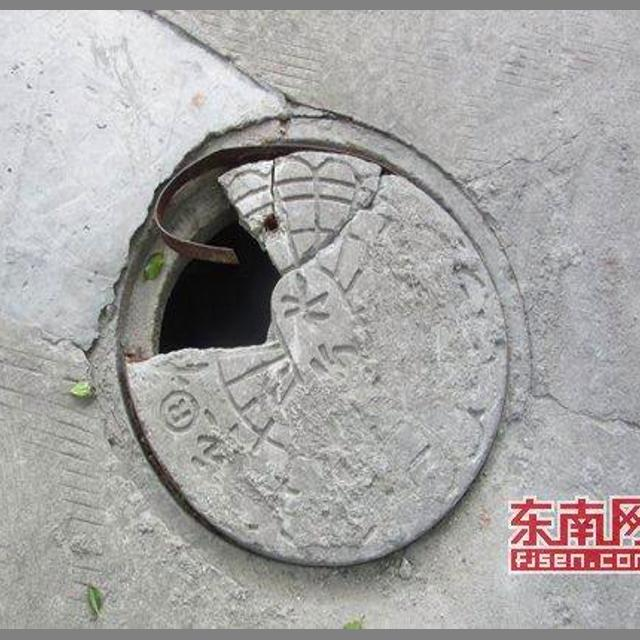broke: (80, 98, 540, 593)
